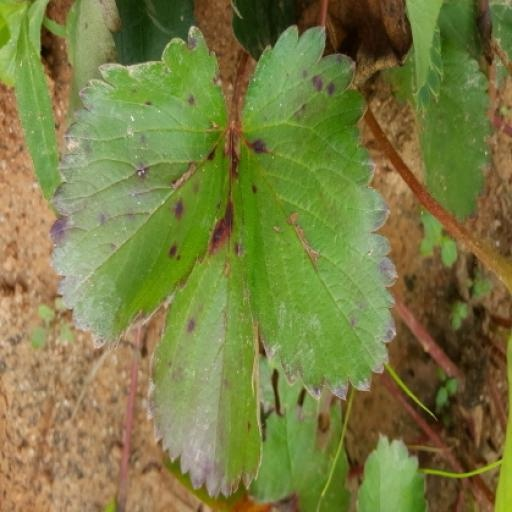Leaf Spot: (112, 109, 277, 488), (279, 160, 464, 490), (250, 12, 366, 362), (389, 389, 447, 511)
